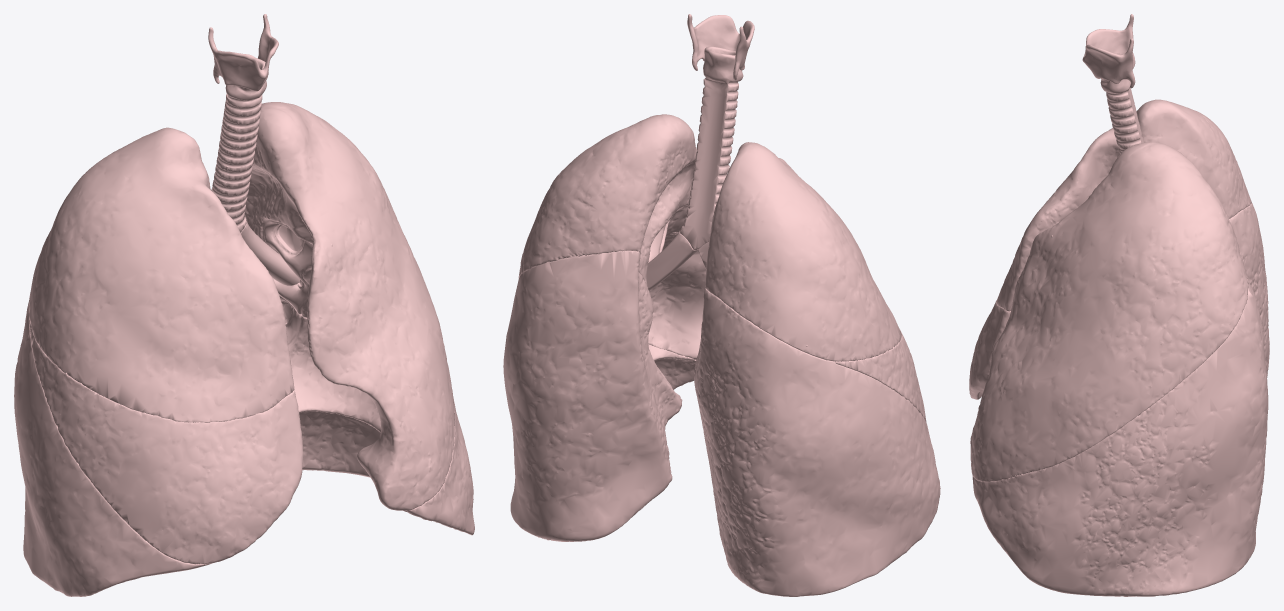
The model's file is respiratory.glb.
3 renders of one model, left to right at view 1: azimuth 30°, elevation 25°; view 2: azimuth 150°, elevation 25°; view 3: azimuth 270°, elevation 25°, orthographic. The views are drawn at different scales.
Visible parts, largest first — view 1: FMA7333, FMA7370, FMA7383, FMA7337, FMA7371, FMA7394, FMA55099, FMA7409; view 2: FMA7337, FMA7371, FMA7333, FMA7370, FMA7394, FMA7383, FMA55099, FMA7409; view 3: FMA7370, FMA7371, FMA7333, FMA7337, FMA55099, FMA7394, FMA7383.
Boxes of the visible parts, x1,y1,x2,y2 form: FMA7333: [28, 127, 294, 422]; FMA7370: [244, 102, 454, 510]; FMA7383: [29, 319, 303, 564]; FMA7337: [14, 298, 211, 596]; FMA7371: [279, 294, 474, 535]; FMA7394: [211, 57, 266, 232]; FMA55099: [208, 14, 278, 91]; FMA7409: [241, 221, 332, 285]; FMA7337: [694, 288, 940, 596]; FMA7371: [503, 250, 696, 541]; FMA7333: [705, 142, 901, 361]; FMA7370: [518, 114, 705, 359]; FMA7394: [679, 46, 743, 250]; FMA7383: [834, 330, 926, 423]; FMA55099: [687, 14, 754, 80]; FMA7409: [646, 231, 808, 346]; FMA7370: [970, 142, 1248, 481]; FMA7371: [972, 275, 1268, 596]; FMA7333: [996, 99, 1251, 311]; FMA7337: [1229, 203, 1269, 377]; FMA55099: [1082, 14, 1135, 88]; FMA7394: [1100, 53, 1143, 153]; FMA7383: [969, 300, 1010, 399].
Bounding box in the file's own units: 0.2534 × 0.3234 × 0.181.
